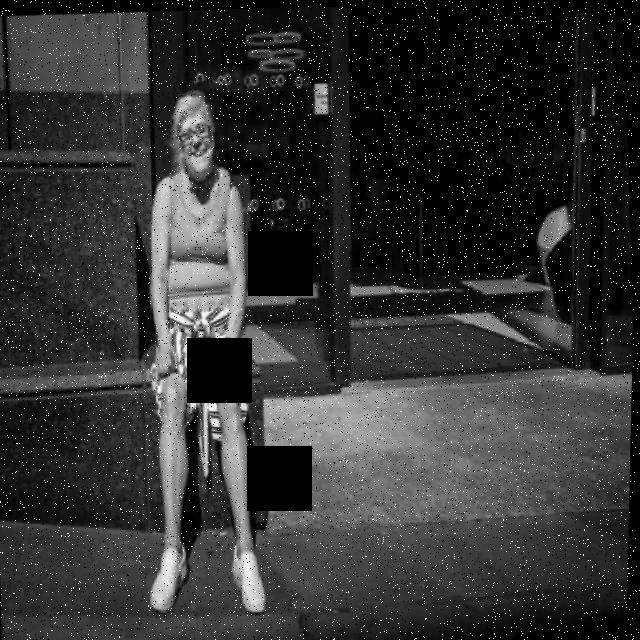happy: (160, 78, 231, 189)
